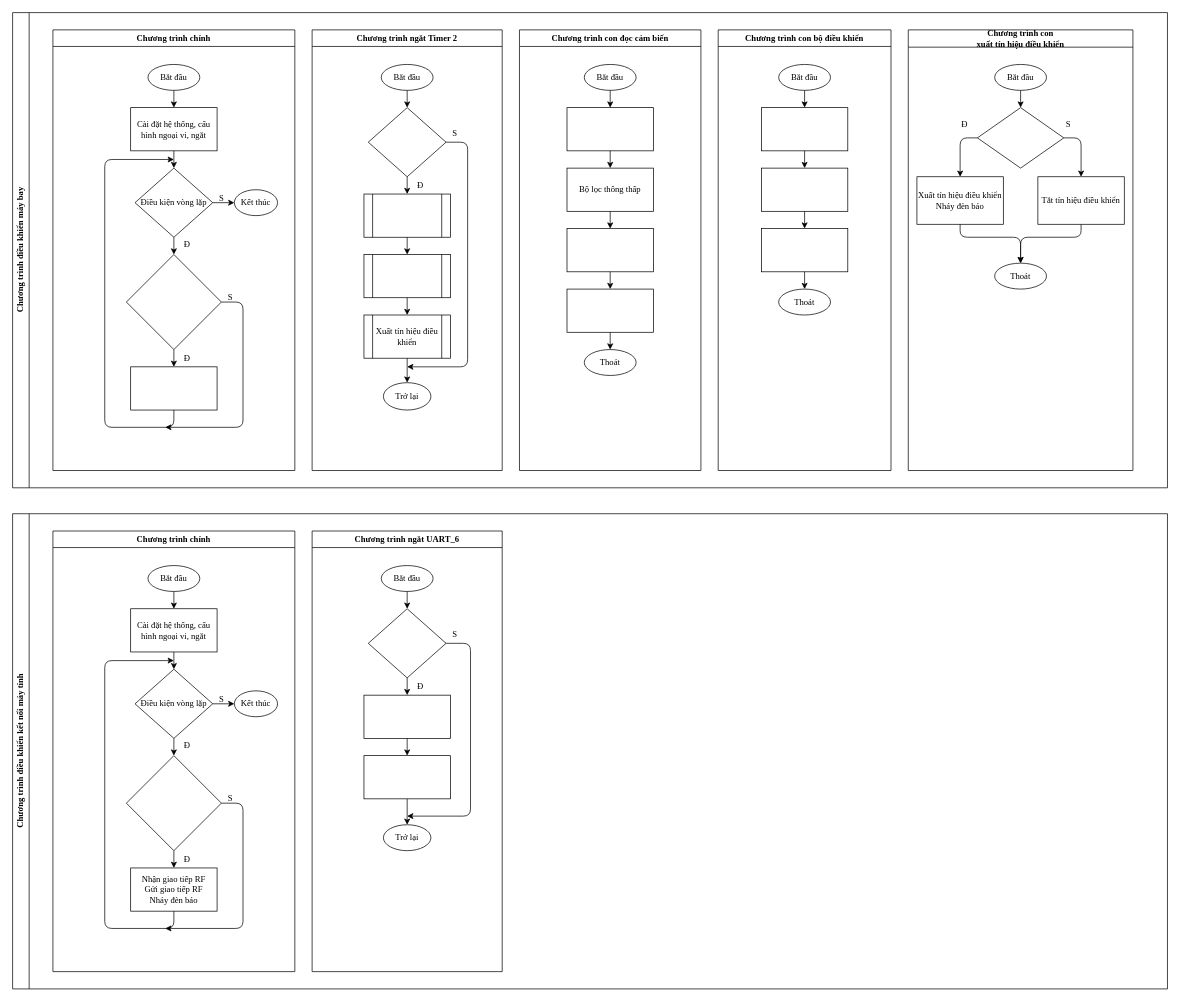
Some shapes in this 1180 by 1002 pixel diagram are drawn without their labels. The shapes that lost their labels are listed below. From the top down, each one's centre as x and y in pixels, then its label:
At [407,142]: "Kiểm tra timer ngắt".
At [609,129]: "Đọc giá trị từ MPU, tính toán giá trị".
At [804,129]: "Tính toán sai số".
At [1020,137]: "Kiểm tra cho phép hoạt động".
At [804,189]: "Tính toán giá trị bộ điều khiển".
At [406,215]: "Đọc cảm biến".
At [609,250]: "Bộ lọc định hướng Madgwick".
At [804,250]: "Chuyển giá trị bộ điều khiển sang tín hiệu điều khiển".
At [406,276]: "Bộ điều khiển".
At [173,302]: "Điều kiện thời gian đủ 20ms".
At [609,310]: "Tính toán góc nghiêng".
At [173,388]: "Gửi giao tiếp RF Nhận giao tiếp RF Nháy đèn báo".
At [407,643]: "Kiểm tra kí tự bắt đầu khung truyền".
At [406,716]: "Nhận giá trị điều khiển".
At [406,777]: "Gửi giá trị điều khiển Nháy đèn báo".
At [173,803]: "Điều kiện nhận được tín hiệu giao tiếp RF".
